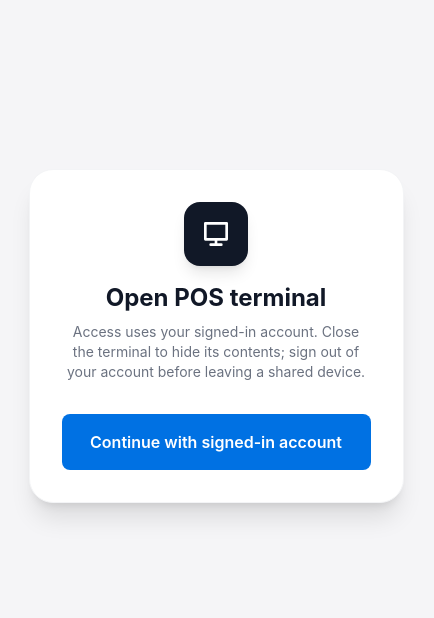
Scenario: POS terminal identity › prevents repeated account-open attempts from sending duplicate auth or registration requests
Later steps or results of the test are not shown.
Step 1. Click the button "Continue with signed-in account" → (216,442), box [62, 414, 370, 470]
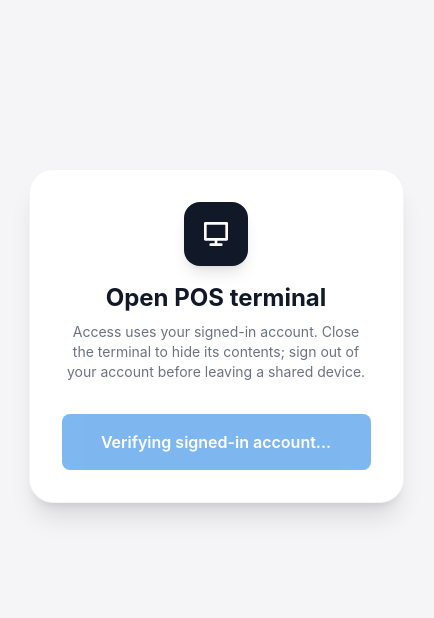
Step 2. Click the button named "Continue with signed-in account" → (216,442), box [62, 414, 370, 470]
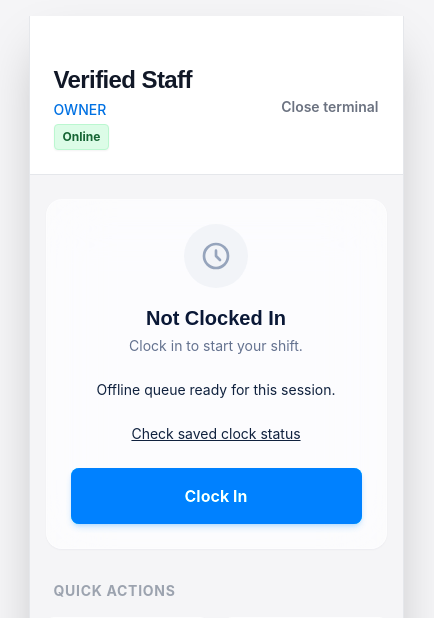
Result: the heading "Verified Staff" is shown at [54, 64, 192, 96]
